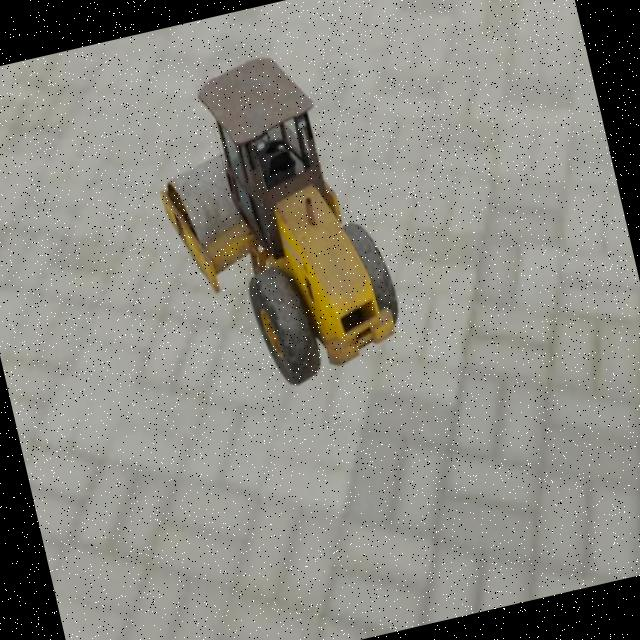Roller: (134, 38, 411, 406)
